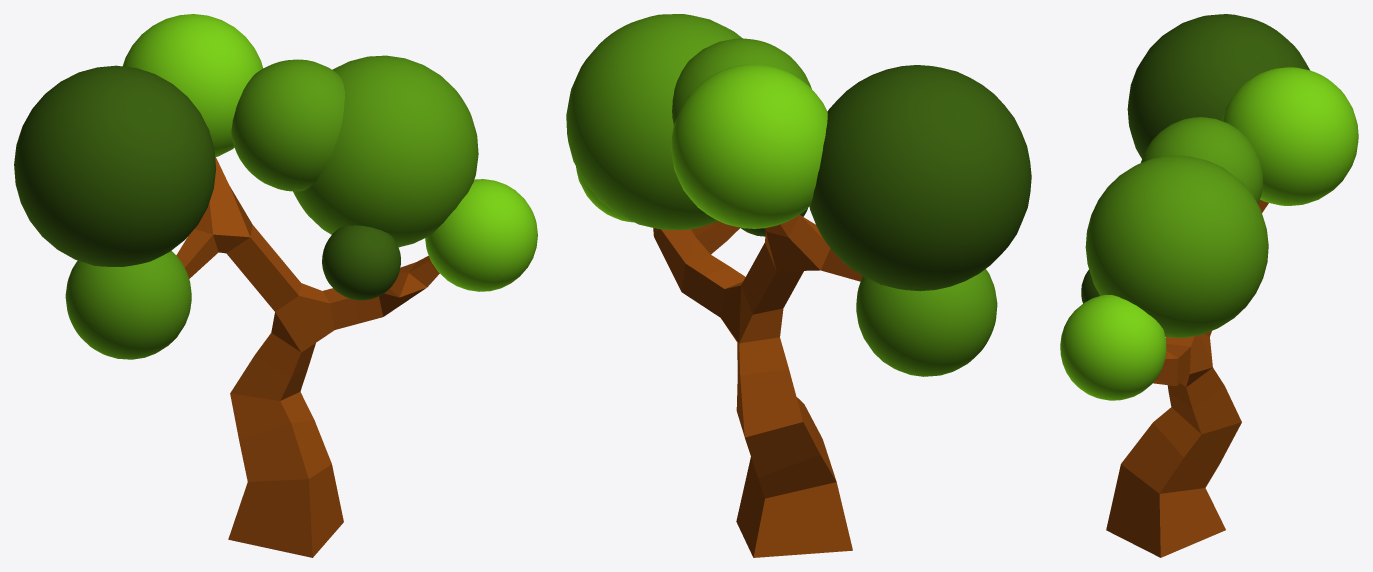
Rendered from Small Sphere Tree.fbx.
The picture shows the model from 3 angles, left to right: view 1: azimuth 30°, elevation 25°; view 2: azimuth 150°, elevation 25°; view 3: azimuth 270°, elevation 25°; orthographic projection. The views are drawn at different scales.
Parts seen in each view (by area): view 1: Cube; view 2: Cube; view 3: Cube.
Part boxes in pixels (left/top/right/bottom): Cube: left=14, top=14, right=537, bottom=557; Cube: left=566, top=14, right=1031, bottom=557; Cube: left=1060, top=14, right=1358, bottom=557.
Size of what is drawn, in the model's own units: 216 by 219 by 133.
